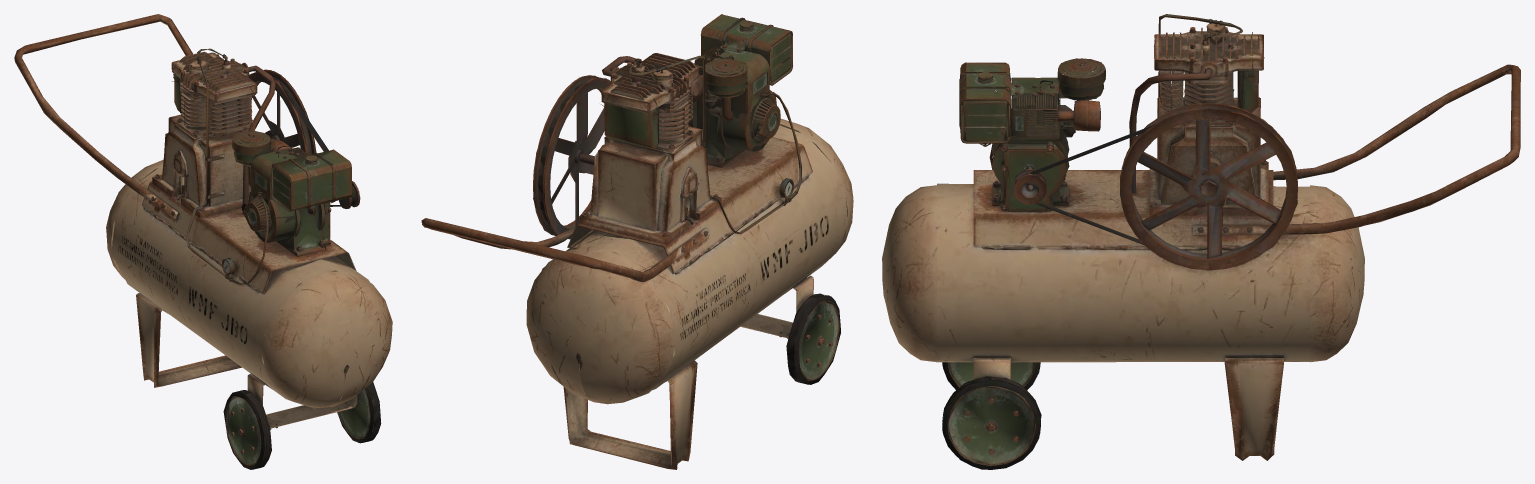
File: ph_old_military_compressor.glb
The picture shows the model from 3 angles, left to right: view 1: azimuth 30°, elevation 25°; view 2: azimuth 150°, elevation 25°; view 3: azimuth 270°, elevation 25°; orthographic projection. The views are drawn at different scales.
Visible parts, largest first — view 1: old_military_compressor; view 2: old_military_compressor; view 3: old_military_compressor.
Part boxes in pixels (<box>): old_military_compressor: <box>14,14,392,469</box>; old_military_compressor: <box>421,14,853,469</box>; old_military_compressor: <box>882,14,1520,469</box>.
Bounding box in the file's own units: 0.5981 × 1.18 × 1.67.
2 materials, 2 textured.
